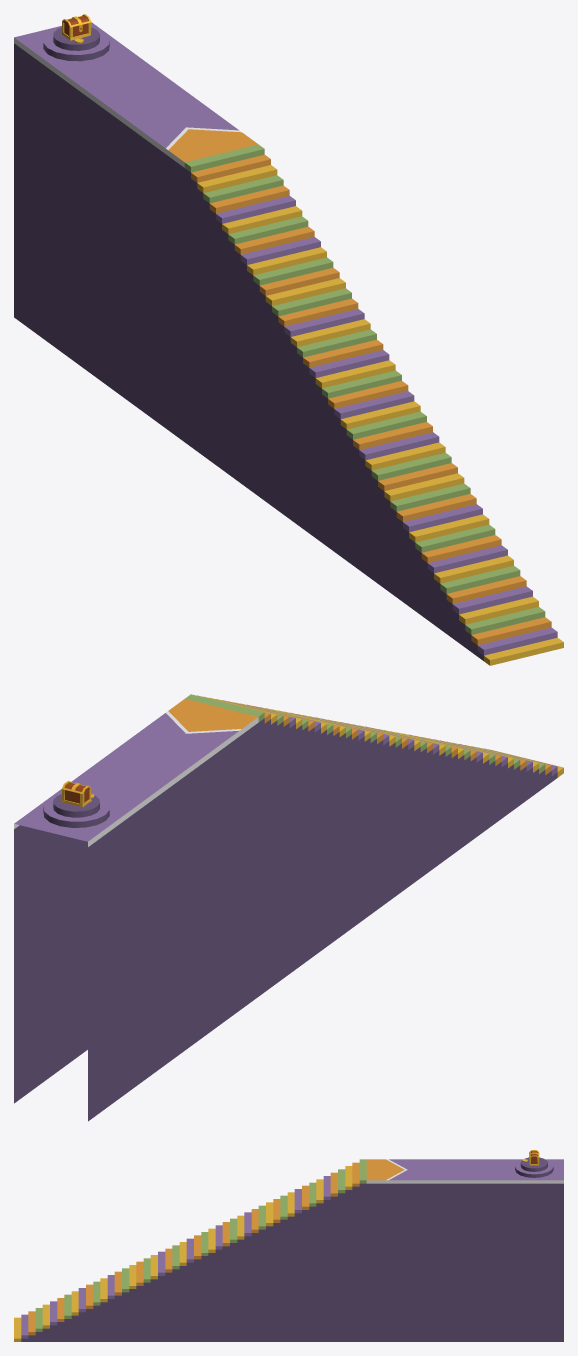
File: stairs-50.fbx
3 renders of one model, top to bottom at view 1: azimuth 30°, elevation 25°; view 2: azimuth 150°, elevation 25°; view 3: azimuth 270°, elevation 25°, orthographic. The views are drawn at different scales.
Visible parts, largest first — view 1: stairs.052, stairs.020, platform, stairs.002, stairs.007, stairs.012, stairs.025, stairs.036, stairs.039, stairs.046, stairs.003, stairs.004 (+40 smaller); view 2: stairs.052, stairs.020, platform, stairs.049; view 3: stairs.052, stairs.020, platform.
Boxes of the visible parts, left/top/right/bottom form: stairs.052: left=14, top=43, right=483, bottom=660; stairs.020: left=14, top=22, right=257, bottom=167; platform: left=43, top=27, right=109, bottom=61; stairs.002: left=477, top=627, right=557, bottom=655; stairs.007: left=446, top=576, right=526, bottom=603; stairs.012: left=415, top=524, right=495, bottom=552; stairs.025: left=340, top=401, right=420, bottom=429; stairs.036: left=265, top=278, right=345, bottom=305; stairs.039: left=278, top=298, right=358, bottom=326; stairs.046: left=203, top=175, right=283, bottom=203; stairs.003: left=471, top=617, right=551, bottom=645; stairs.004: left=465, top=607, right=545, bottom=634; stairs.052: left=14, top=718, right=557, bottom=1121; stairs.020: left=14, top=699, right=258, bottom=846; platform: left=43, top=794, right=109, bottom=827; stairs.049: left=185, top=694, right=264, bottom=721; stairs.052: left=21, top=1183, right=563, bottom=1341; stairs.020: left=366, top=1159, right=563, bottom=1183; platform: left=515, top=1157, right=553, bottom=1177.
Bounding box in the file's own units: 2 × 8 × 22.33.
